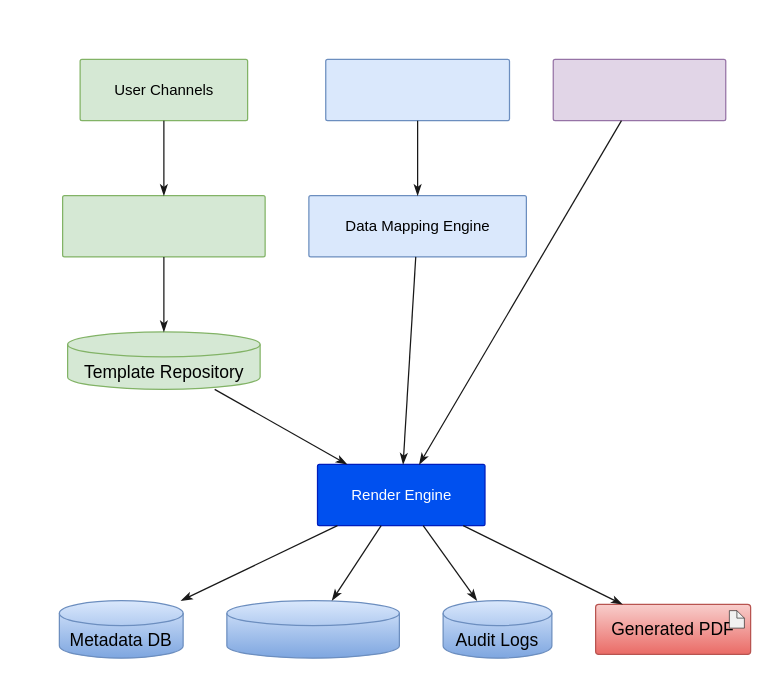
Image size: 773x680. Some labels were removed from this diagram. Here are the shapes that lost their labels. From the top down, the centre of each, then its label:
[417,89]: Billing Data Feed
[639,89]: Security Layer
[163,225]: Template Designer
[312,628]: Document Storage
